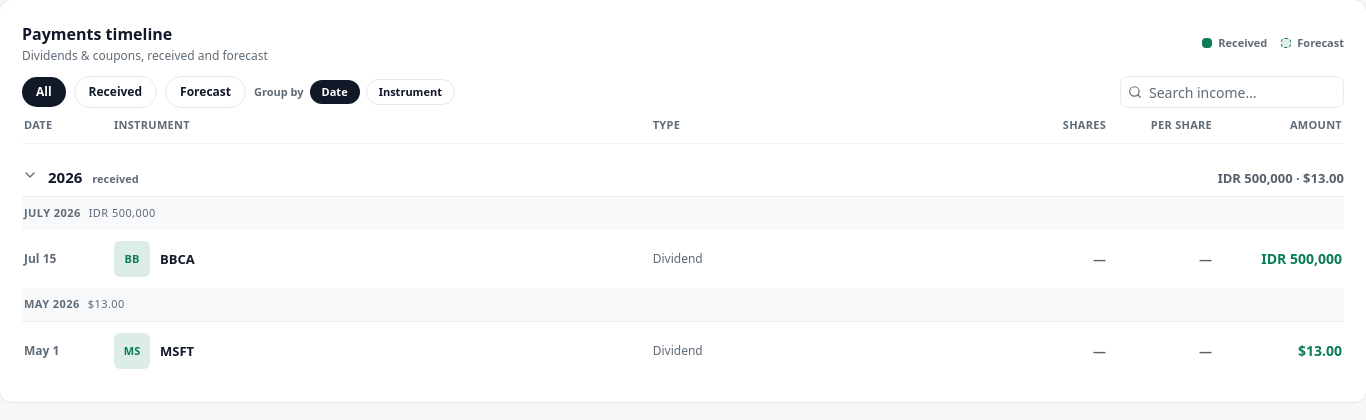
Test: IncomeTimeline › narrows rows by search text matching the clean displayName (#480)
Type "microsoft" into the field with placeholder "Search income…" at (1232, 92), box [1120,76,1344,108]
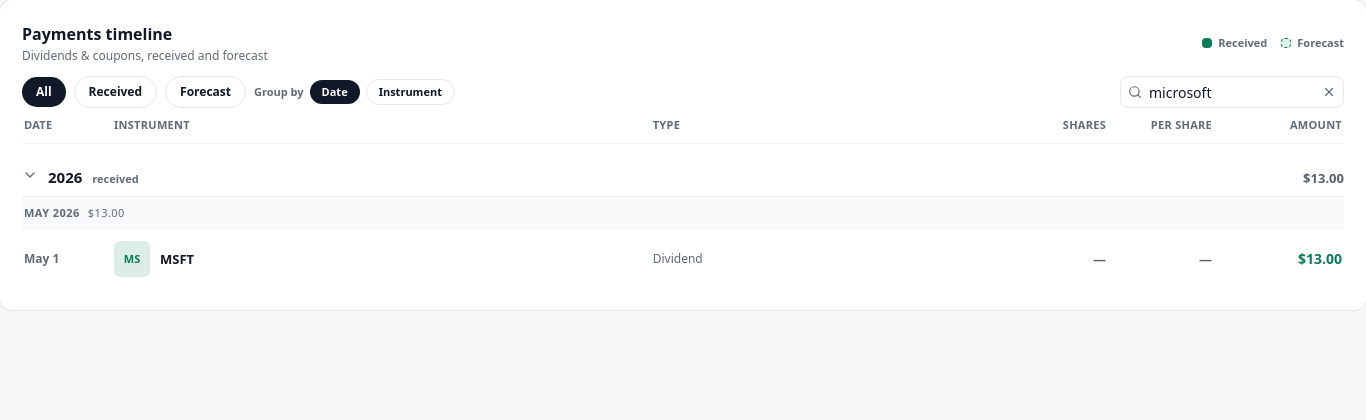
Check: the text "MSFT" is shown, box [160,250,194,269]
Check: the text "BBCA" is gone
